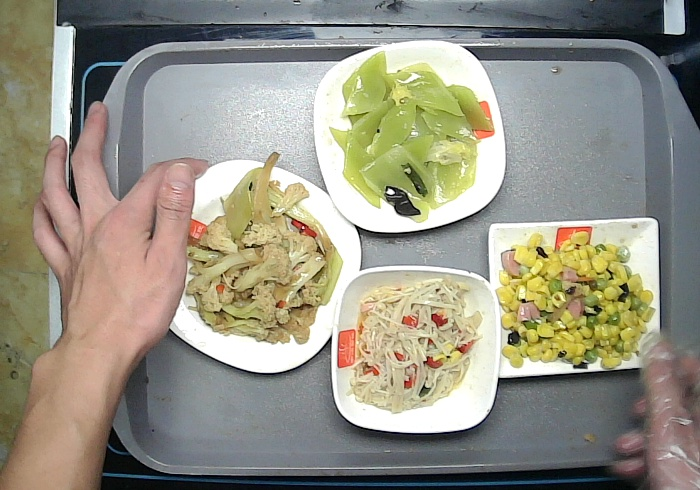SHKJ-Bai_Se_Cai_Die: (312, 38, 508, 238)
SHKJ-Bai_Se_Si_Fang_Cai_Die: (151, 157, 366, 373)
SHKJ-Bai_Se_Xiao_Fang_Die: (332, 265, 503, 434)
SHKJ-Si_Fang_Min: (486, 216, 670, 381)
